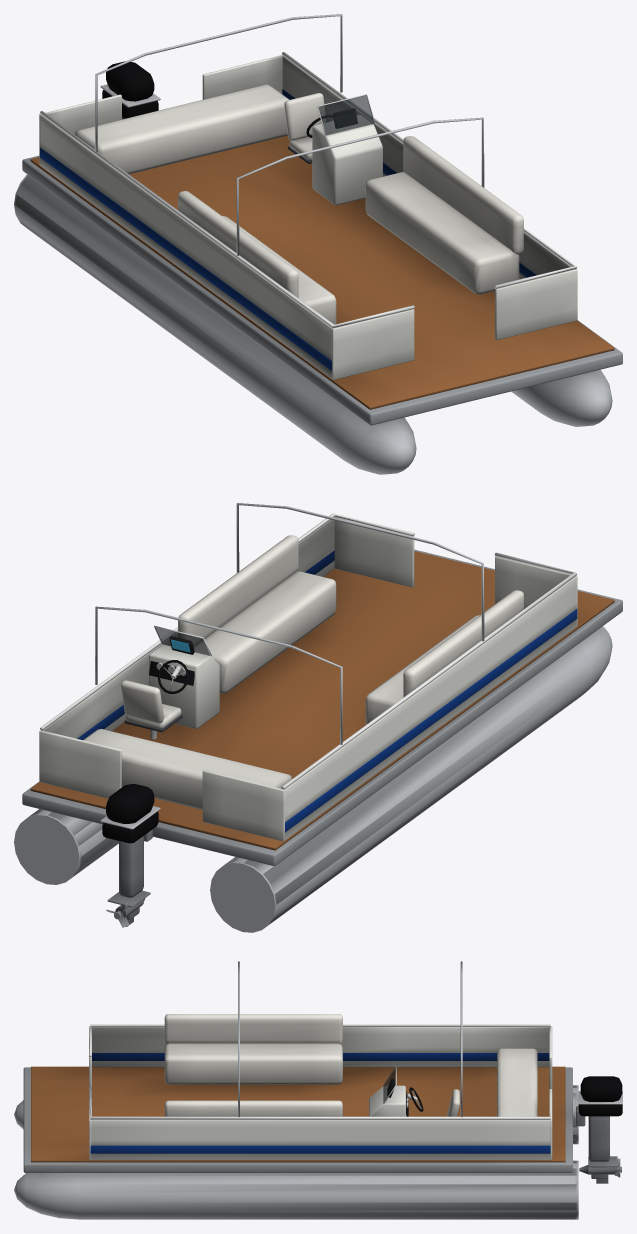
Rendered from boat-pontoon.glb.
3 views of the same model, one above another, from view 1: azimuth 30°, elevation 25°; view 2: azimuth 150°, elevation 25°; view 3: azimuth 270°, elevation 25° (orthographic). The views are drawn at different scales.
Visible parts, largest first — view 1: body; view 2: body; view 3: body.
Part boxes in pixels (x1,y1,x2,y2): body: [14, 14, 622, 474]; body: [14, 503, 622, 932]; body: [14, 961, 622, 1219].
Bounding box in the file's own units: 3.2 × 2.7 × 8.2.
